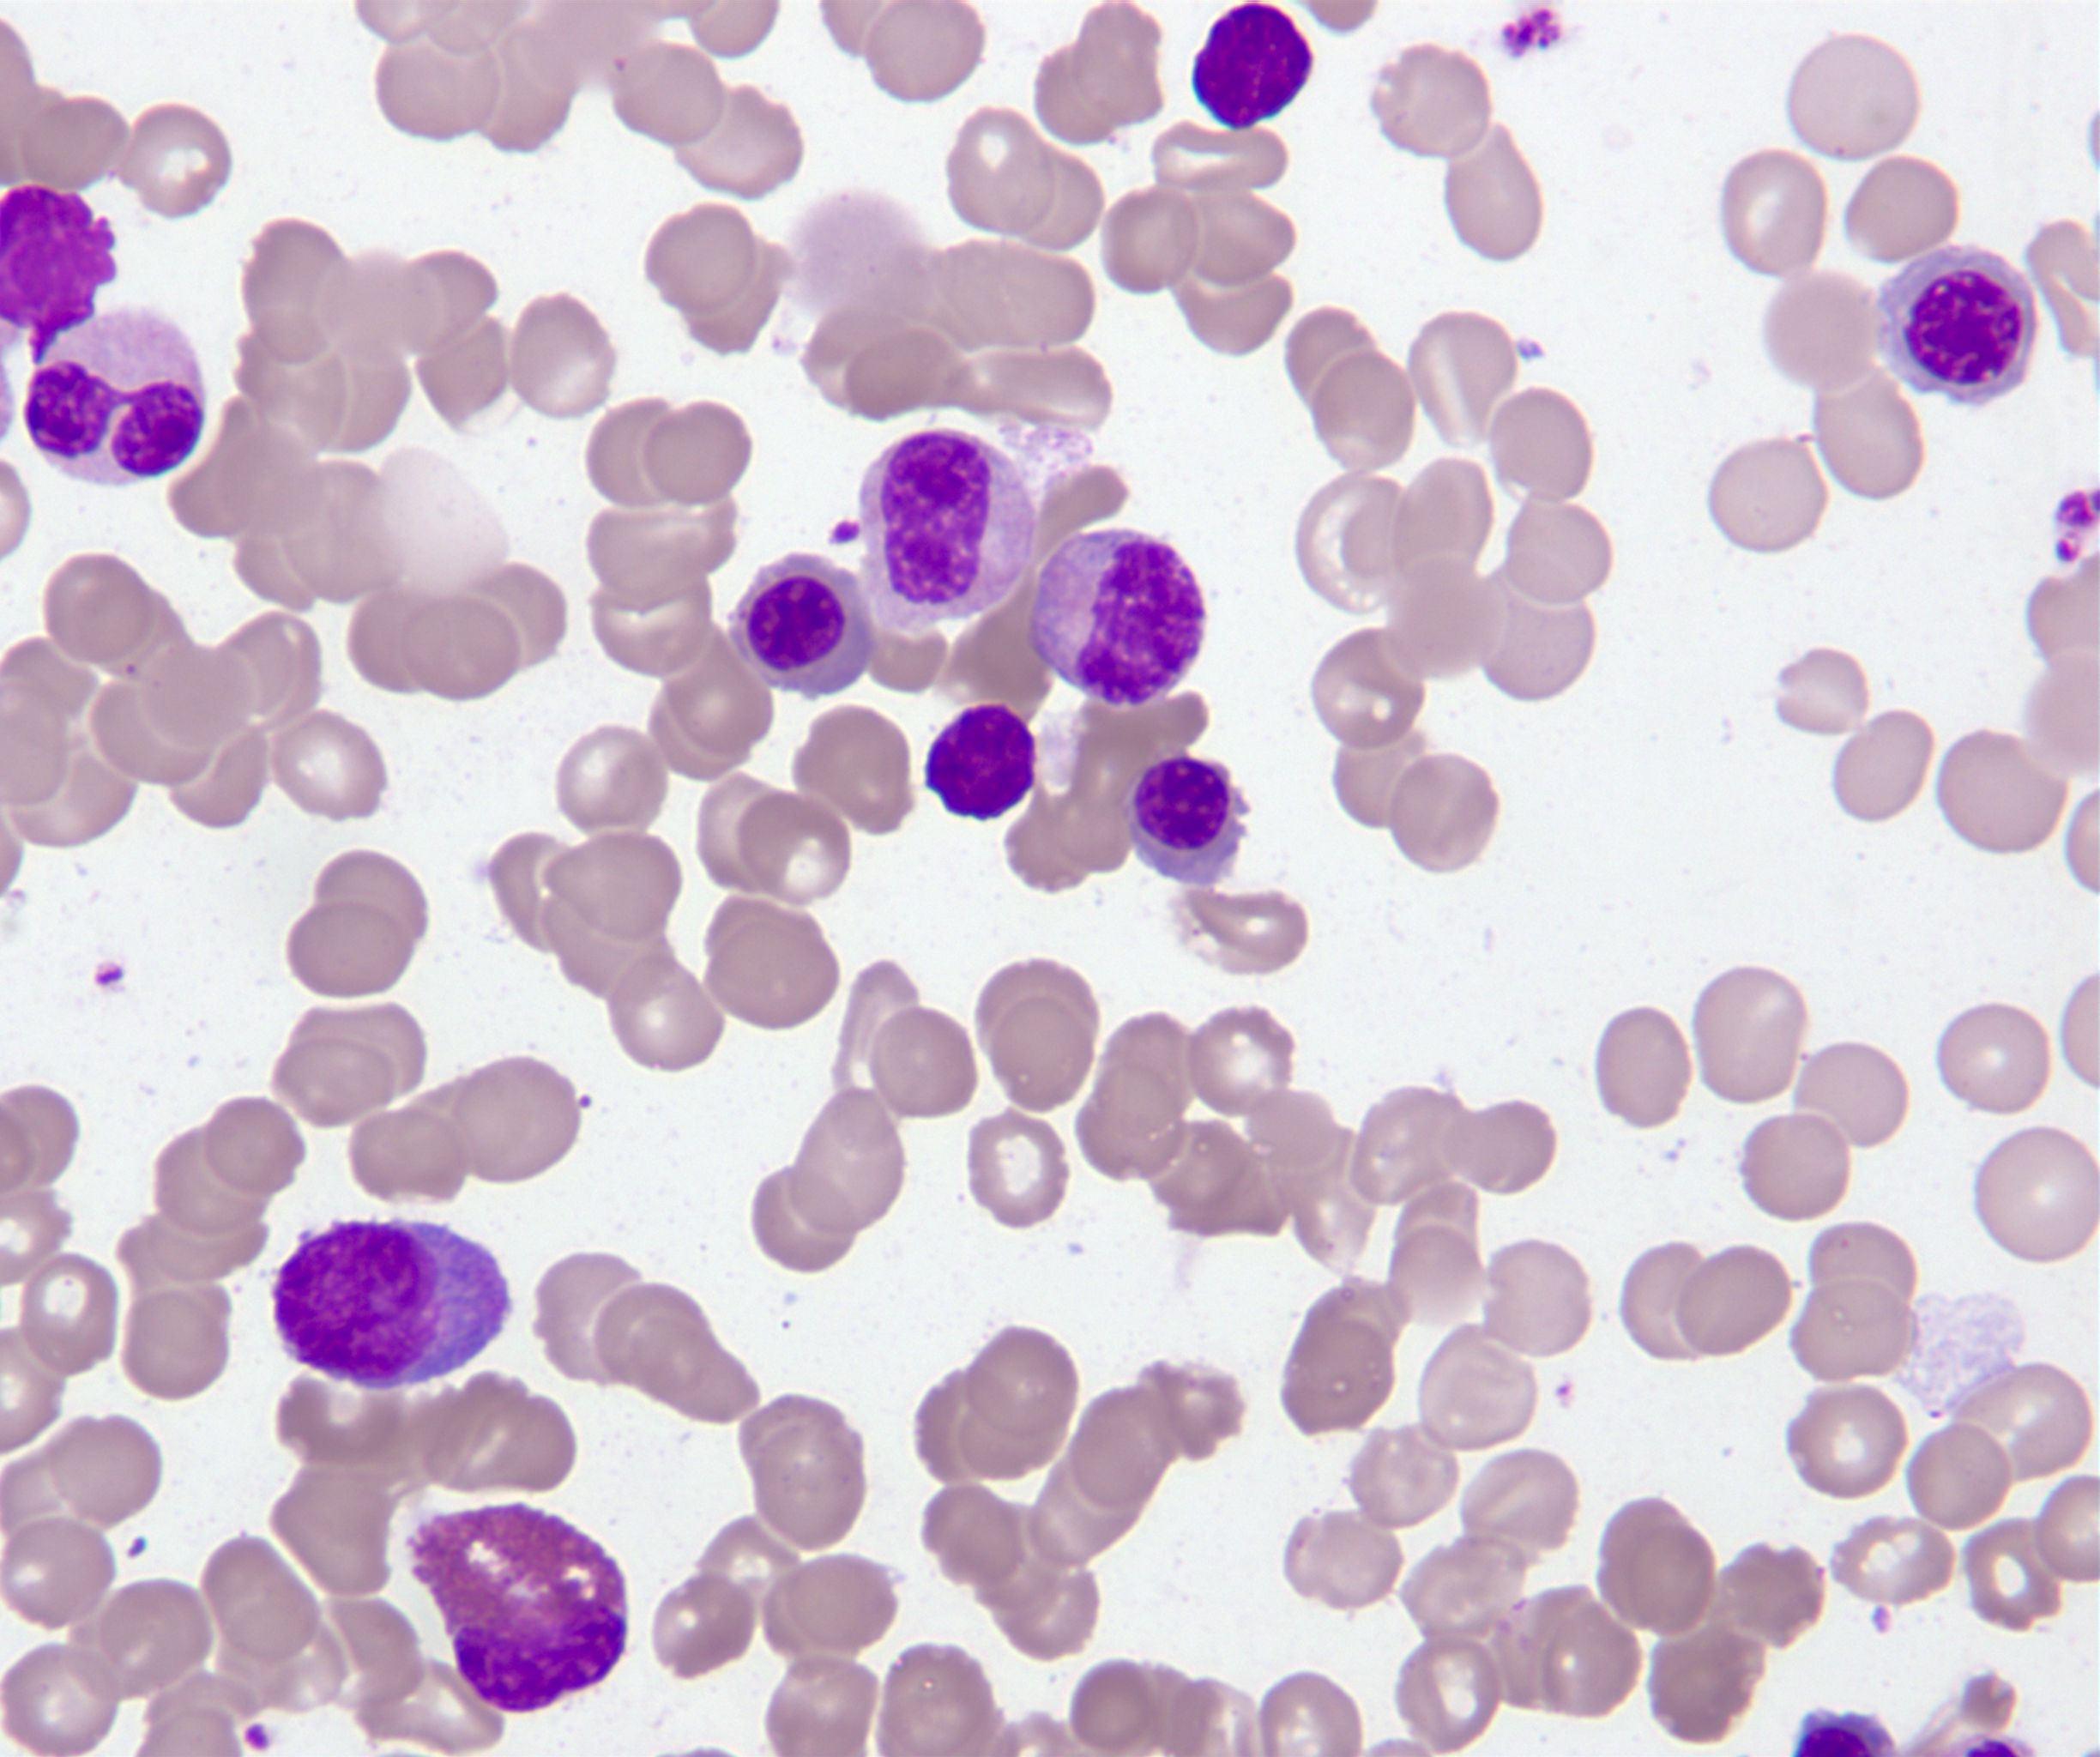24: (1875, 246, 2035, 405), (729, 553, 874, 701), (1125, 752, 1251, 883)
3: (272, 1216, 511, 1389), (860, 429, 1036, 632), (1026, 530, 1205, 707)
6: (23, 311, 206, 487)
x: (406, 1502, 628, 1713), (2, 185, 115, 365), (1193, 2, 1312, 129), (926, 703, 1036, 820)
